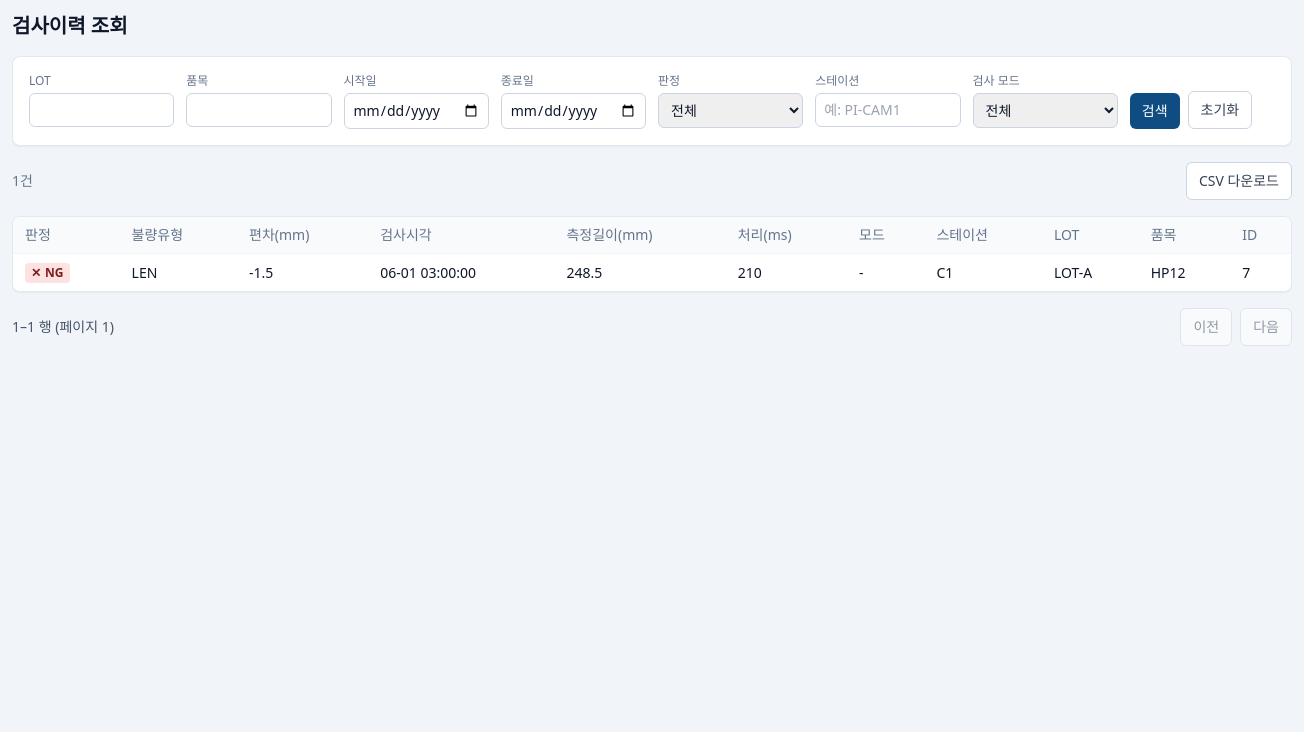
InspectionsPage › LOT 으로 검색하면 LOT 종합 판정(모드별 결과를 합친 결론)이 뜬다
Expected: the text "LOT-A" is shown, [1042,254,1139,291]
In the field with test id "filter-lot": (102,110) [29,93,174,127], type "LOT-A"
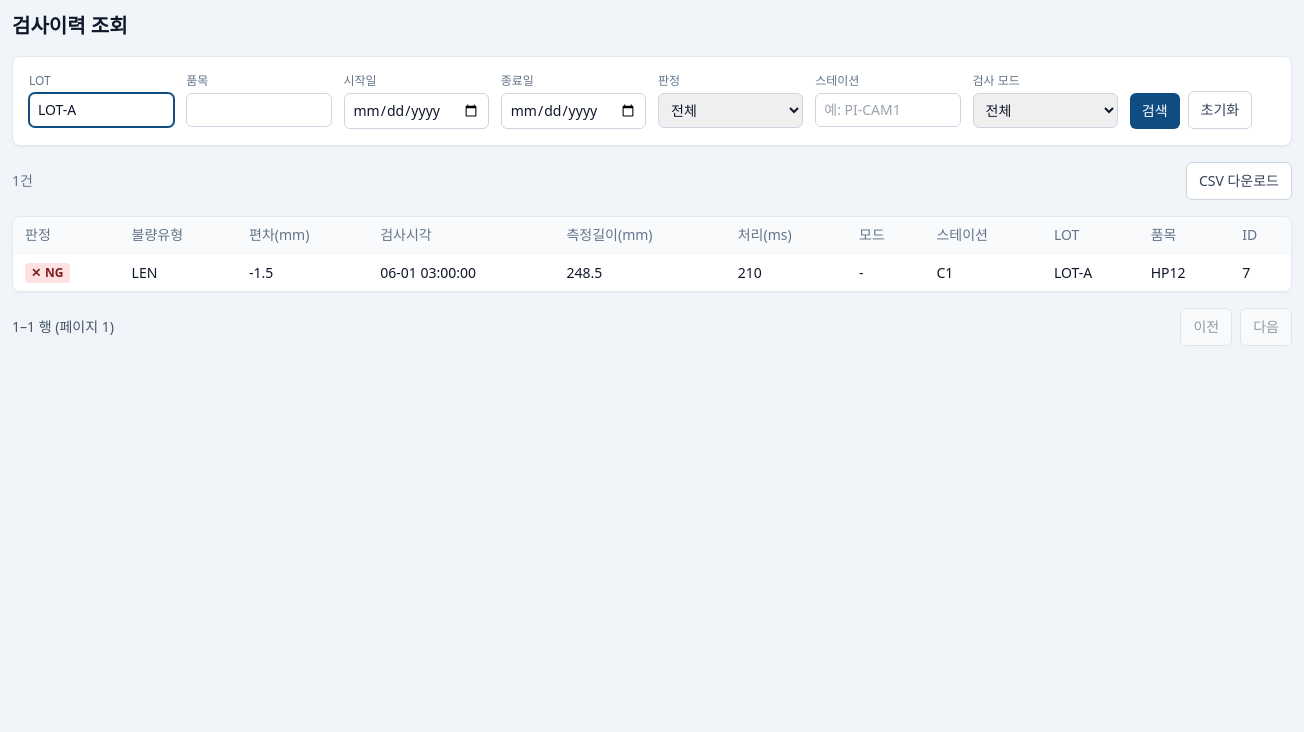
Click the button with test id "apply-filters": (1155,111) [1130,93,1180,129]
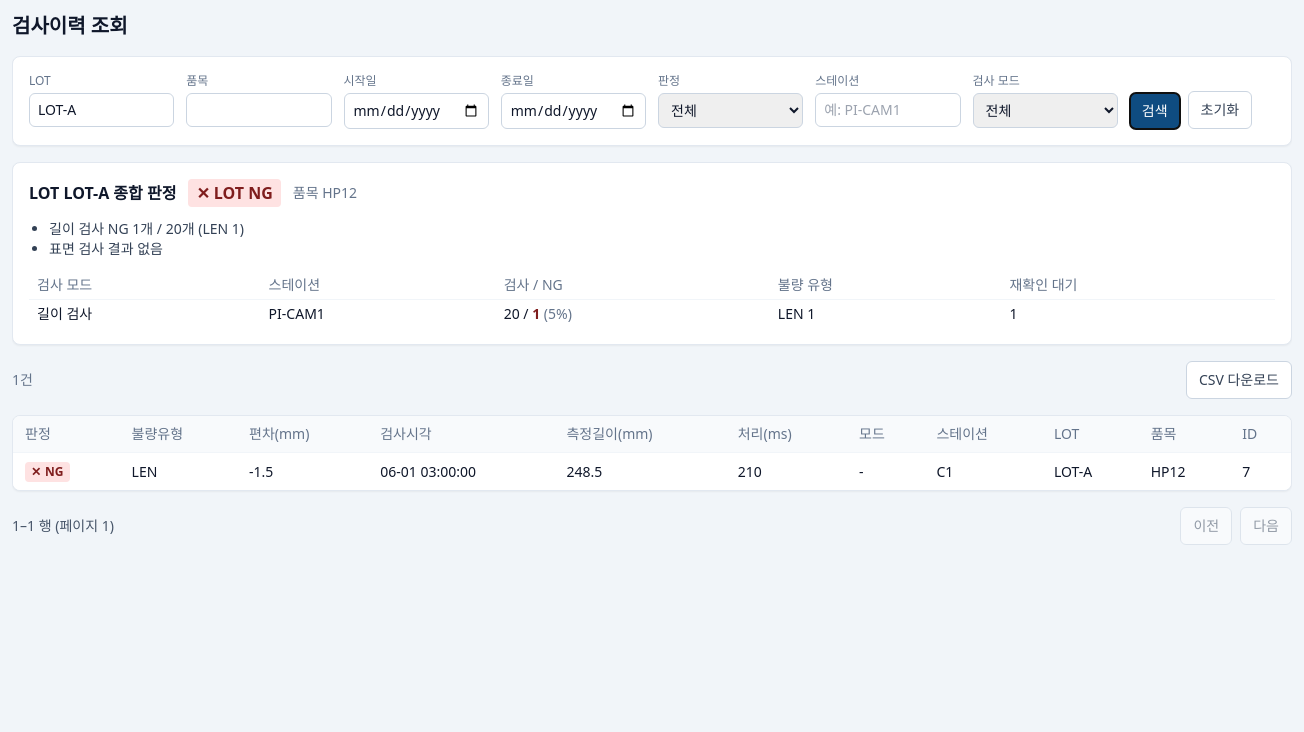
Result: the element with test id "lot-summary" shows "LOT NG" at [214,182,273,204]
Result: the list with test id "lot-reasons" shows "표면 검사 결과 없음" at [49,239,163,258]
Result: the row with test id "lot-stage-CUT_LENGTH" shows "LEN 1" at [778,304,815,323]
